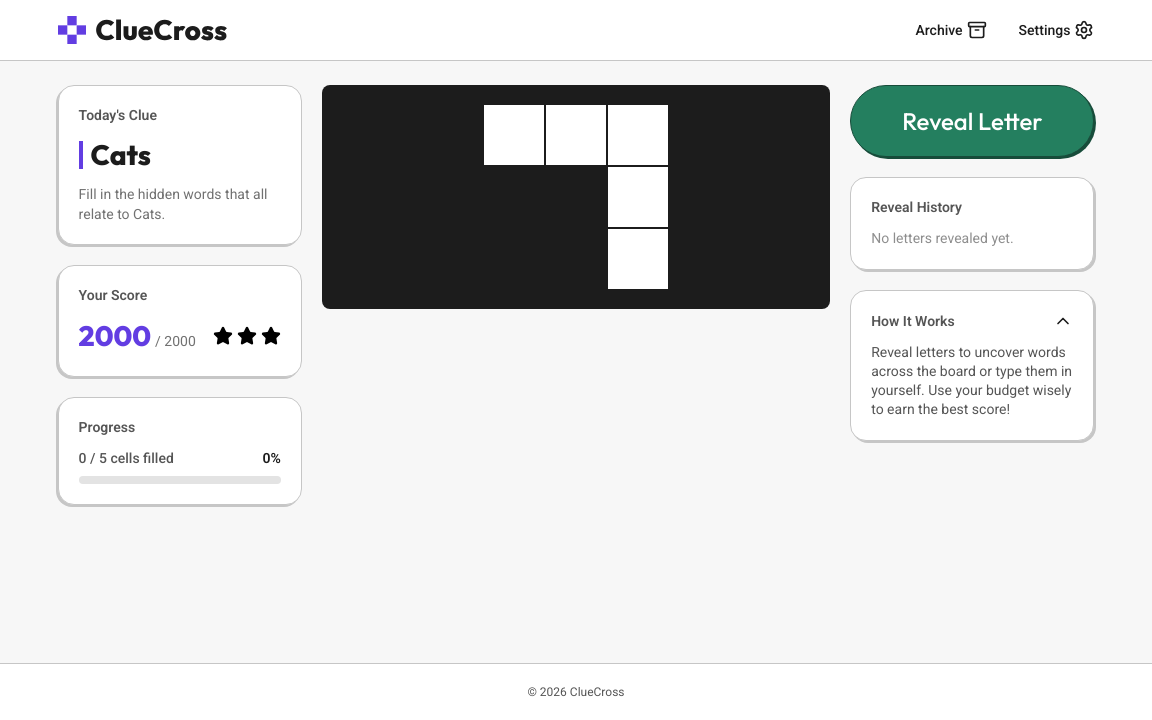
impossible-letter alert › clears when the flagged cell is corrected after returning to it
Click the button "Reveal Letter" at (972, 121), box [850,85,1094,157]
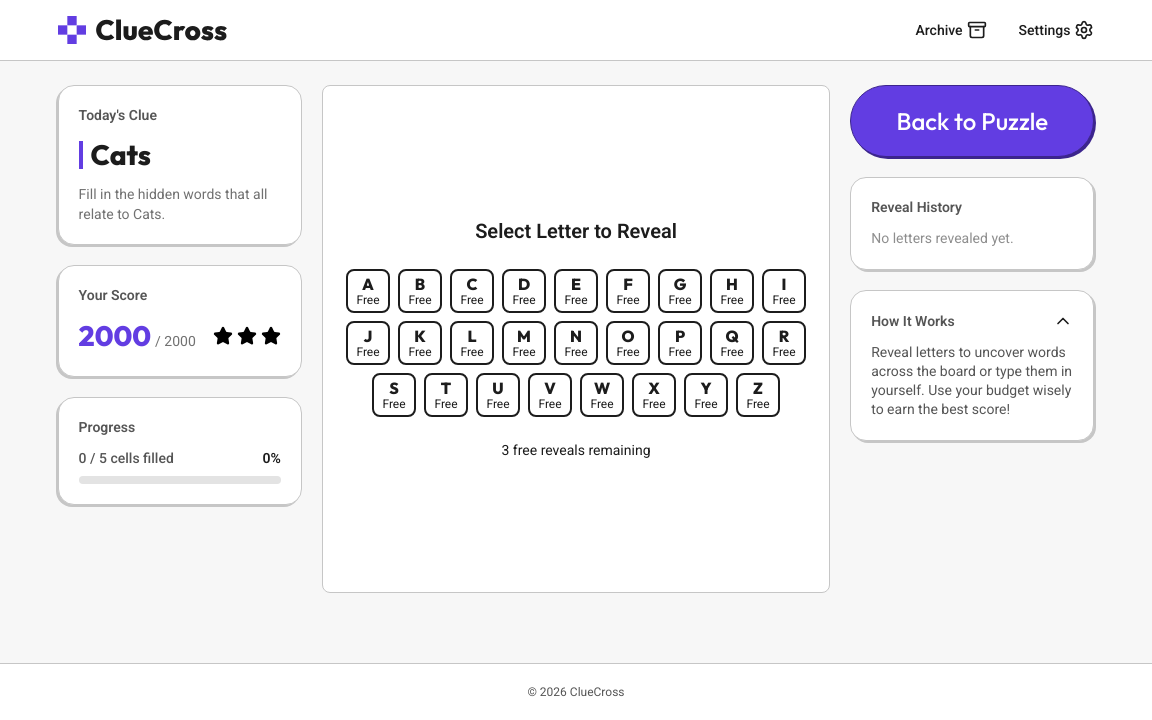
Click the button with test id "letter-A" at (368, 291), box [346,269,390,313]
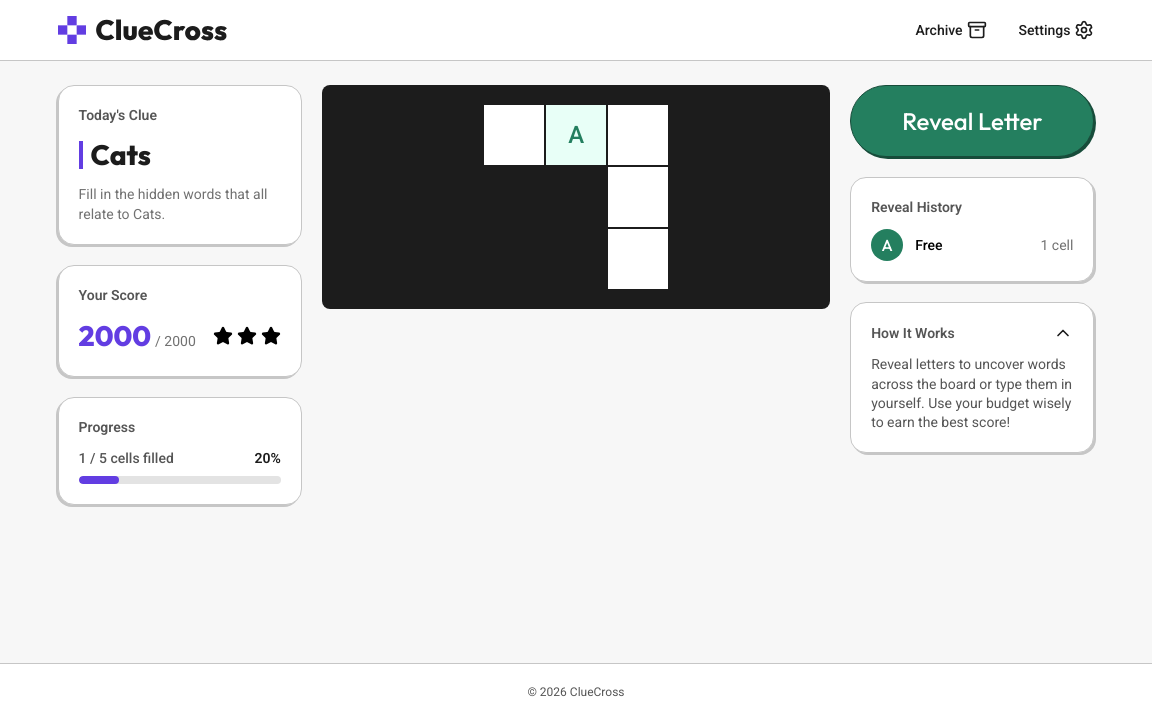
Click the 3rd field named "Editable, empty" at (638, 197), box [608,167,668,227]
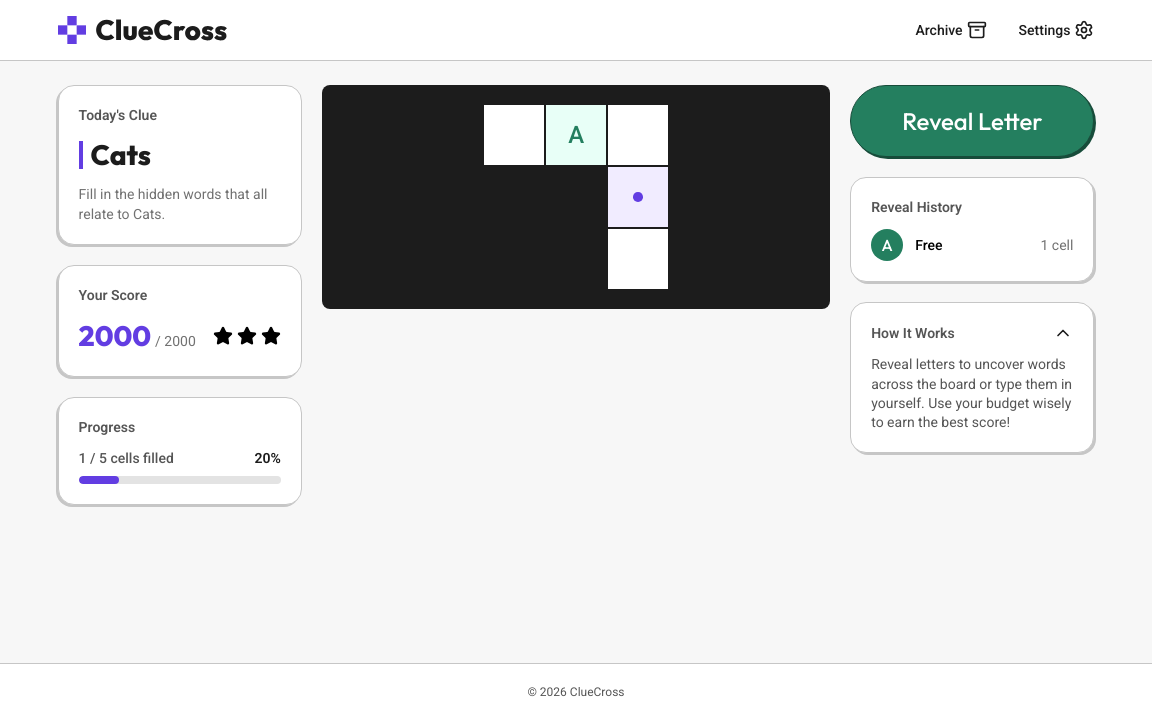
Type keys "A"
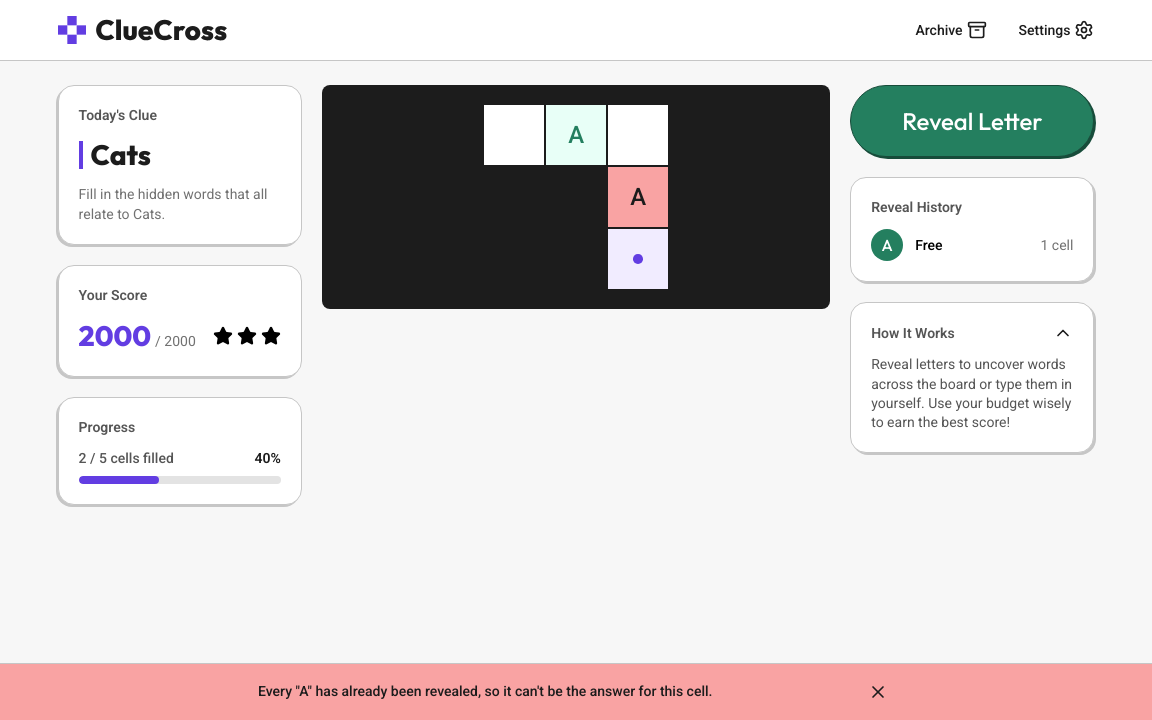
Result: the text "has already been revealed" is shown at [258,683,712,699]
Click the field named "Editable, letter A entered" at (638, 197), box [608,167,668,227]
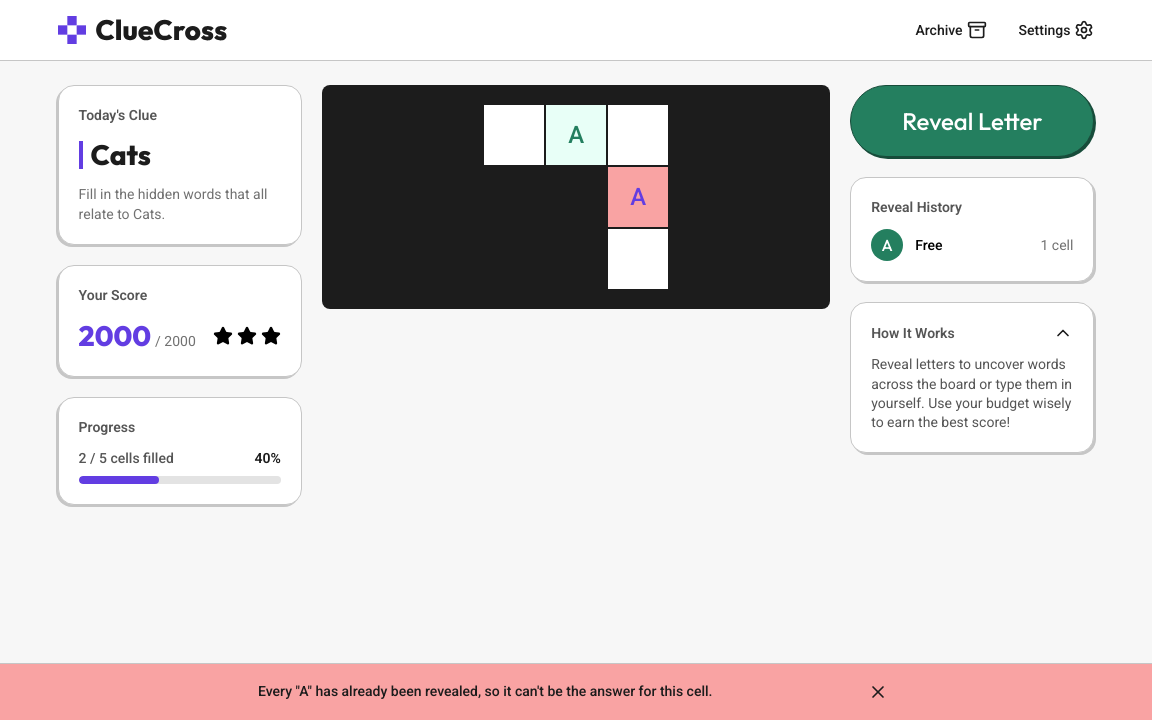
Type keys "I"
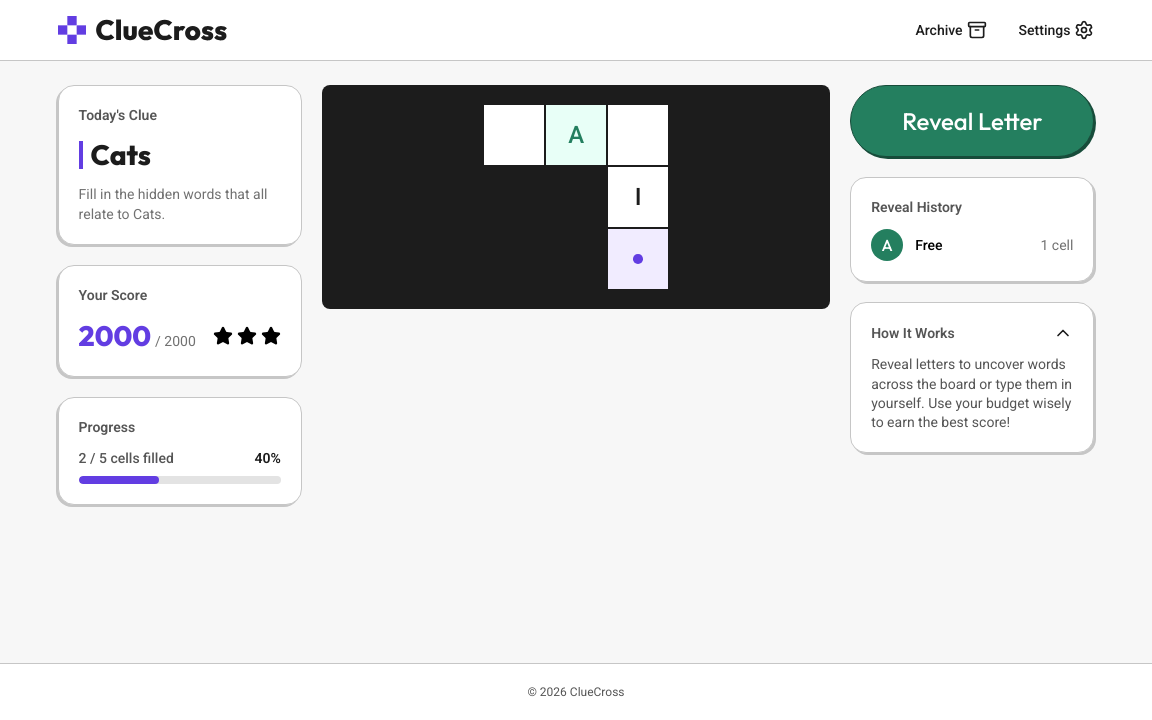
Result: the text "has already been revealed" is gone
